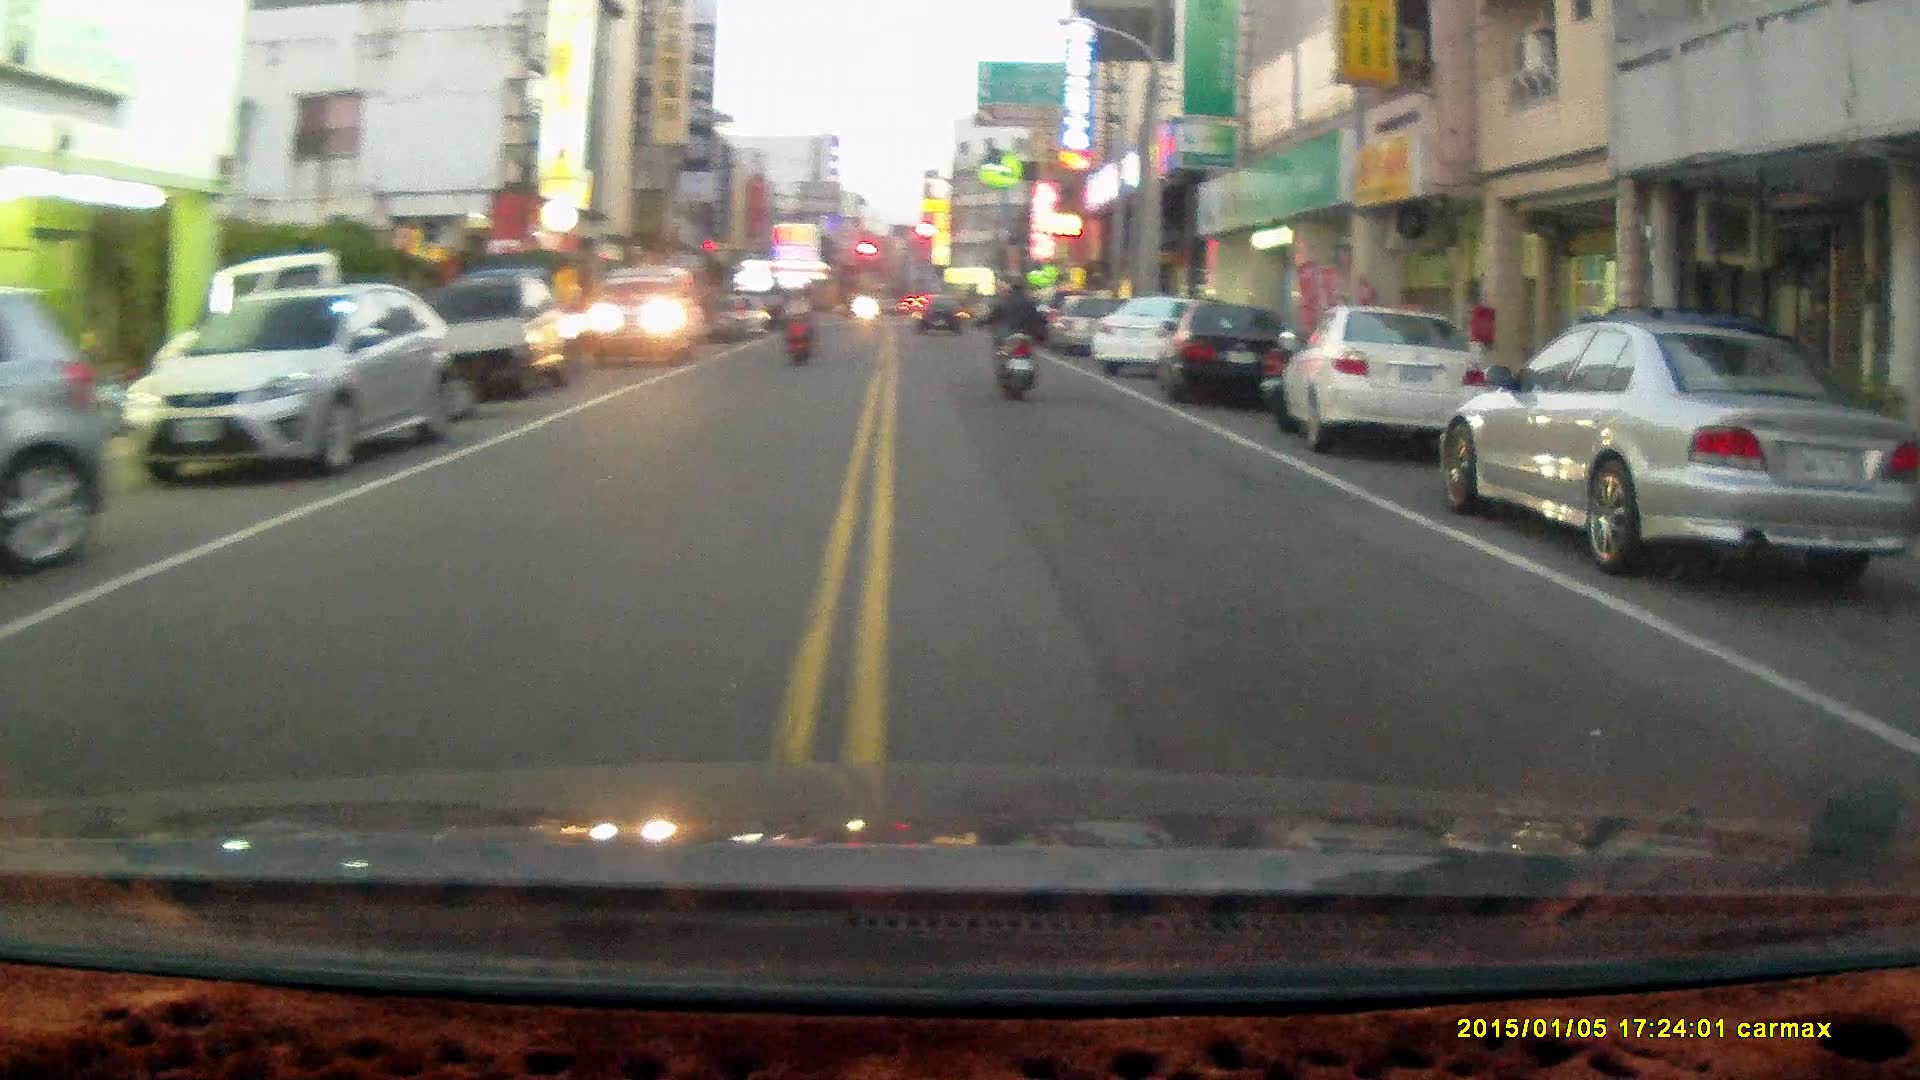rider: (981, 272, 1036, 401), (779, 284, 815, 365)
vehicle: (1446, 319, 1907, 585), (124, 282, 455, 478), (1274, 306, 1501, 455), (1, 283, 109, 589), (422, 270, 567, 404), (1163, 298, 1297, 409), (586, 263, 702, 369), (1088, 293, 1223, 377)
